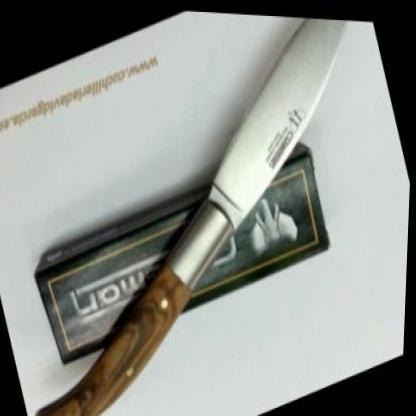knife: (153, 7, 411, 262)
